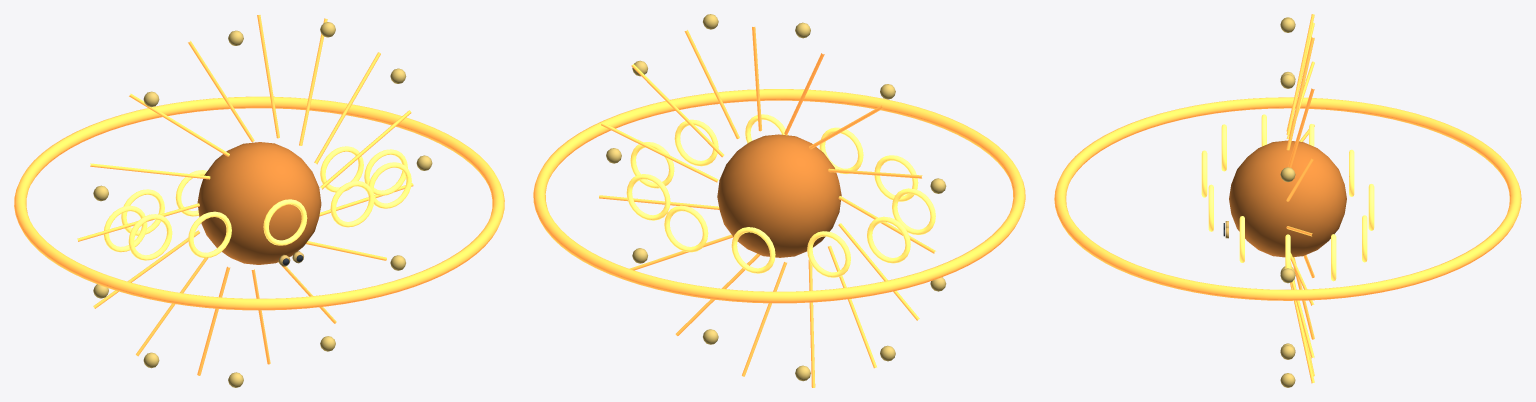
Rendered from 05_L89_SolarWeatherHologramDome.glb.
3 renders of one model, left to right at view 1: azimuth 30°, elevation 25°; view 2: azimuth 150°, elevation 25°; view 3: azimuth 270°, elevation 25°, orthographic. The views are drawn at different scales.
Parts seen in each view (by area): view 1: L87_SolarWeatherHologramDome_Part_0000, L87_SolarWeatherHologramDome_Part_0003, L87_SolarWeatherHologramDome_Part_0001, L87_SolarWeatherHologramDome_Part_0002; view 2: L87_SolarWeatherHologramDome_Part_0000, L87_SolarWeatherHologramDome_Part_0003, L87_SolarWeatherHologramDome_Part_0001, L87_SolarWeatherHologramDome_Part_0002; view 3: L87_SolarWeatherHologramDome_Part_0000, L87_SolarWeatherHologramDome_Part_0003, L87_SolarWeatherHologramDome_Part_0001, L87_SolarWeatherHologramDome_Part_0002.
Part boxes in pixels (x1,y1,x2,y2): L87_SolarWeatherHologramDome_Part_0000: (14, 15, 504, 375); L87_SolarWeatherHologramDome_Part_0003: (197, 142, 321, 264); L87_SolarWeatherHologramDome_Part_0001: (103, 146, 411, 260); L87_SolarWeatherHologramDome_Part_0002: (93, 22, 432, 387); L87_SolarWeatherHologramDome_Part_0000: (533, 27, 1025, 387); L87_SolarWeatherHologramDome_Part_0003: (717, 134, 841, 257); L87_SolarWeatherHologramDome_Part_0001: (626, 114, 935, 277); L87_SolarWeatherHologramDome_Part_0002: (606, 14, 946, 381); L87_SolarWeatherHologramDome_Part_0000: (1054, 14, 1521, 383); L87_SolarWeatherHologramDome_Part_0003: (1229, 140, 1346, 257); L87_SolarWeatherHologramDome_Part_0001: (1201, 114, 1374, 281); L87_SolarWeatherHologramDome_Part_0002: (1280, 17, 1295, 387).
Bounding box in the file's own units: 5.54 × 4.44 × 5.54.
